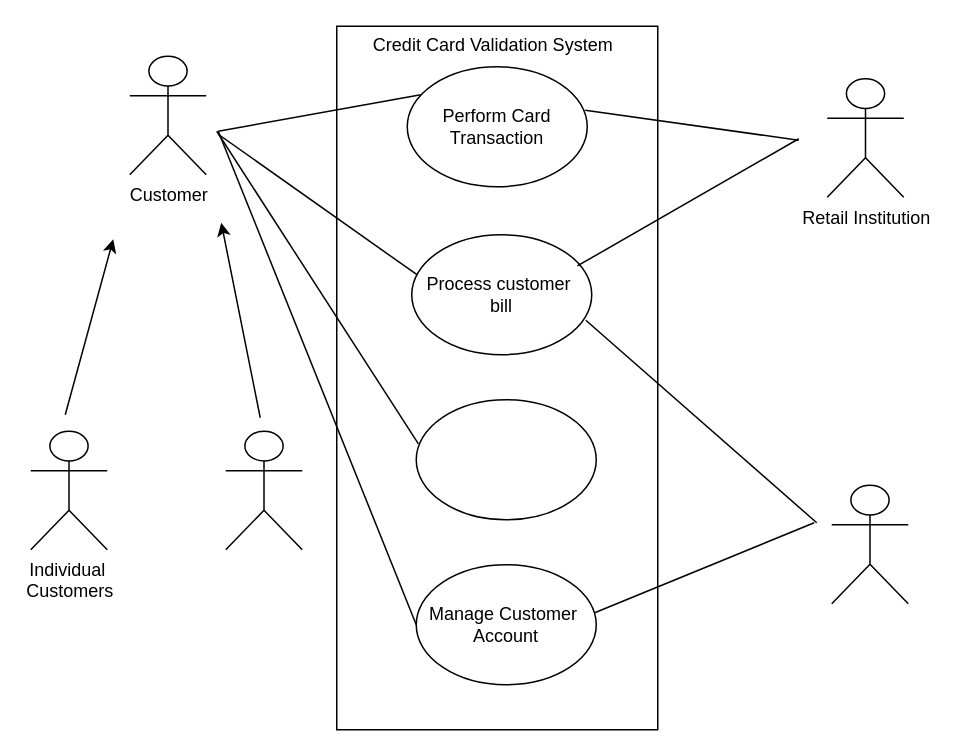
This 974x756 diagram has some shape labels left out. Each missing label, with the centre of its shape:
"Coporate Customer" goes at (x=263, y=490).
"Reconcile Transaction" goes at (x=505, y=459).
"Sponsoring Financial Institution" goes at (x=869, y=544).
